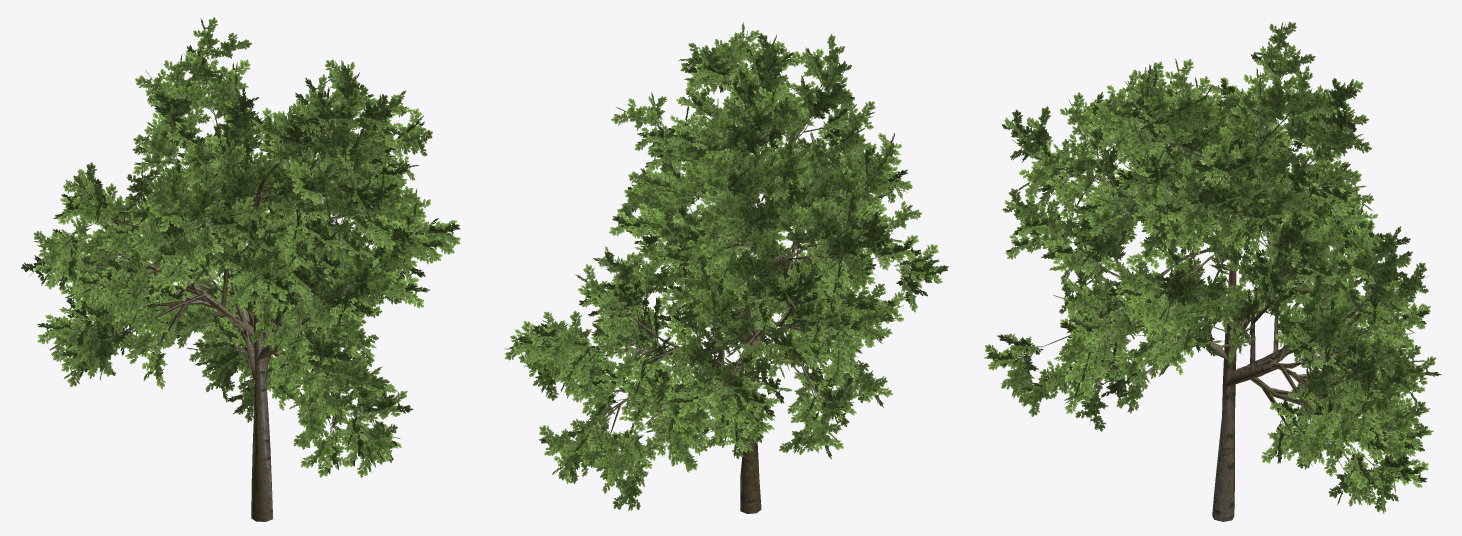
The model's file is medium-a.glb.
3 views of the same model, side by side, from view 1: azimuth 30°, elevation 25°; view 2: azimuth 150°, elevation 25°; view 3: azimuth 270°, elevation 25° (orthographic). The views are drawn at different scales.
Visible parts, largest first — view 1: medium-a; view 2: medium-a; view 3: medium-a.
Boxes of the visible parts, box(x1,y1,x2,y2) form: medium-a: box(21, 17, 460, 521); medium-a: box(504, 22, 948, 513); medium-a: box(984, 21, 1441, 521).
Size of the model in its own units: 5.69 by 6.65 by 5.8.
Materials: 2 (2 with a texture image).
